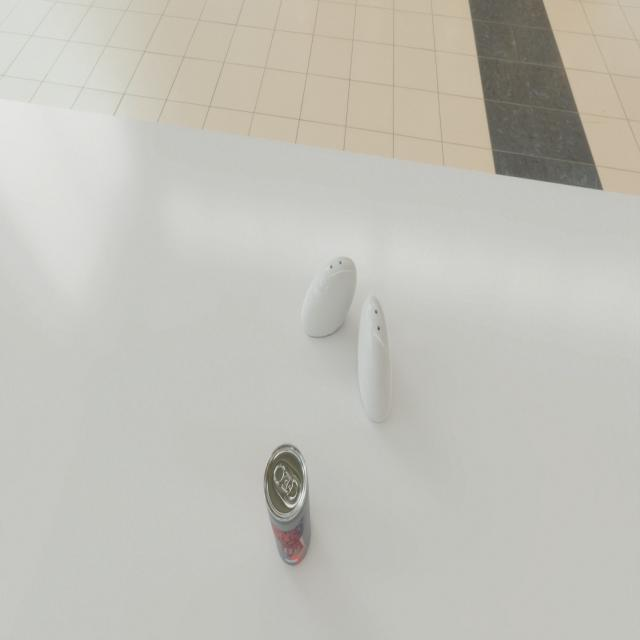Rita_zero_sugar: (263, 443, 311, 566)
Salt: (301, 256, 357, 337), (358, 294, 392, 422)
